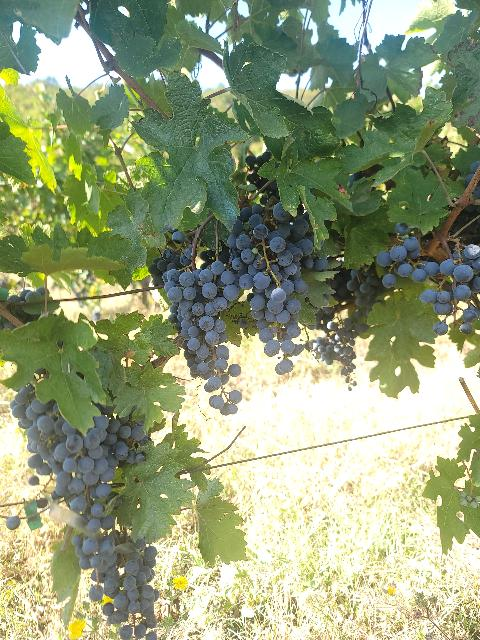grapes: (10, 384, 149, 569), (228, 185, 315, 375), (162, 269, 241, 415), (90, 539, 159, 640), (420, 244, 480, 315), (199, 260, 254, 301)
